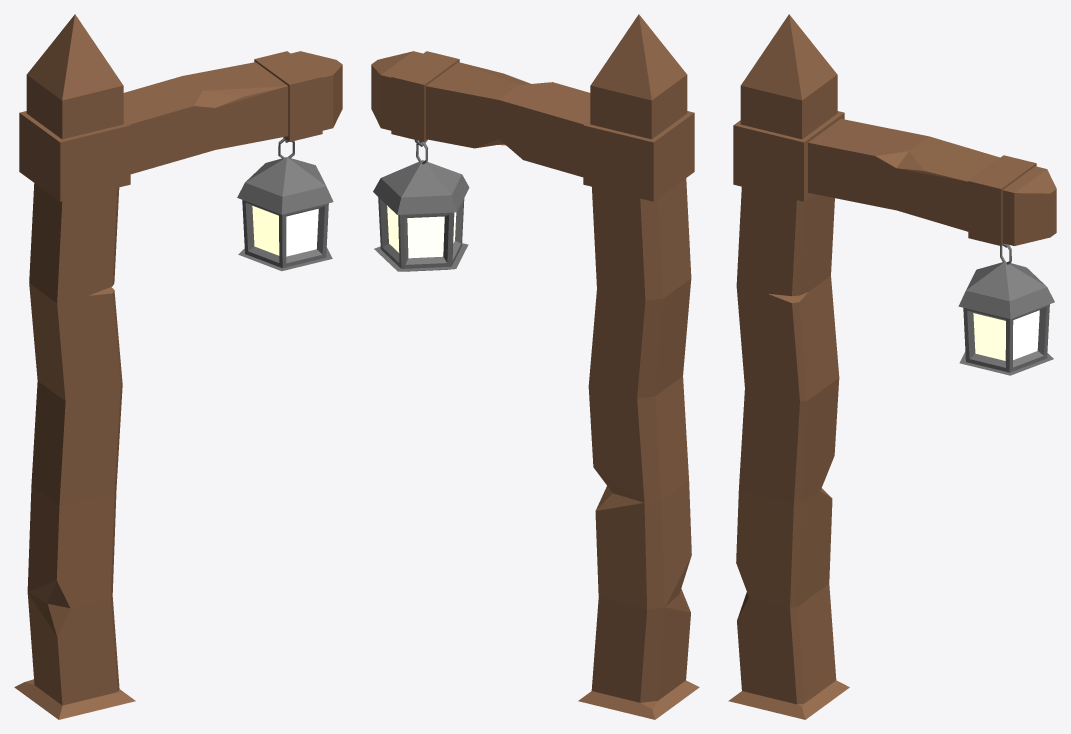
Rendered from lamp.fbx.
The picture shows the model from 3 angles, left to right: view 1: azimuth 30°, elevation 25°; view 2: azimuth 150°, elevation 25°; view 3: azimuth 330°, elevation 25°; orthographic projection.
Visible parts, largest first — view 1: lamp_LOD0; view 2: lamp_LOD0; view 3: lamp_LOD0.
Part boxes in pixels (x1,y1,x2,y2): lamp_LOD0: (14,14,342,719); lamp_LOD0: (371,14,699,719); lamp_LOD0: (728,14,1056,719).
Size of what is drawn, in the model's own units: 148 by 317 by 42.15.
